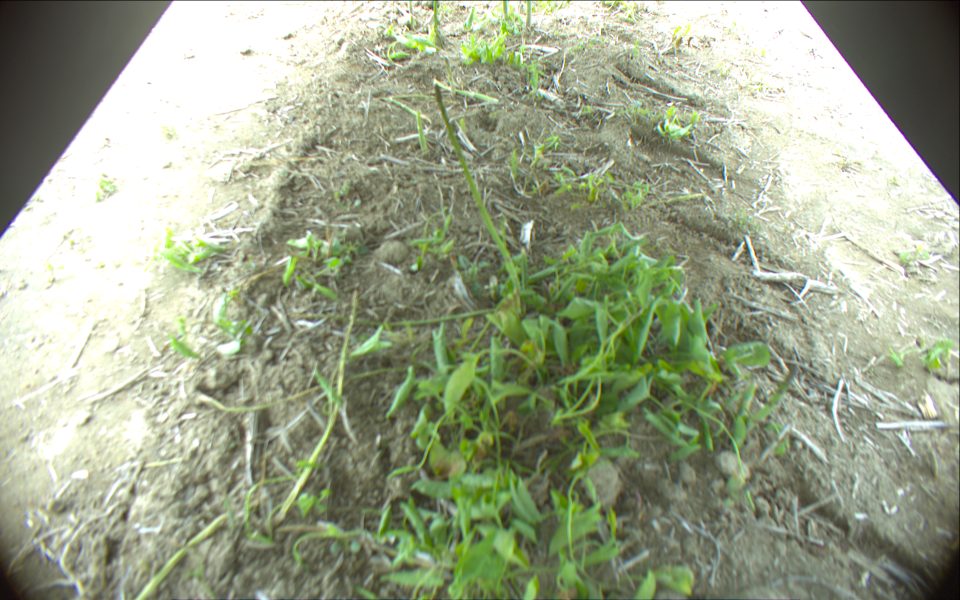aspa: (433, 83, 526, 301), (273, 292, 359, 520), (194, 366, 403, 416), (136, 510, 231, 600), (273, 305, 513, 326), (749, 363, 797, 427), (428, 76, 496, 105), (383, 96, 433, 124), (415, 107, 427, 149), (444, 59, 456, 94), (431, 1, 439, 34), (406, 1, 415, 30), (525, 1, 534, 29), (502, 1, 508, 25)
